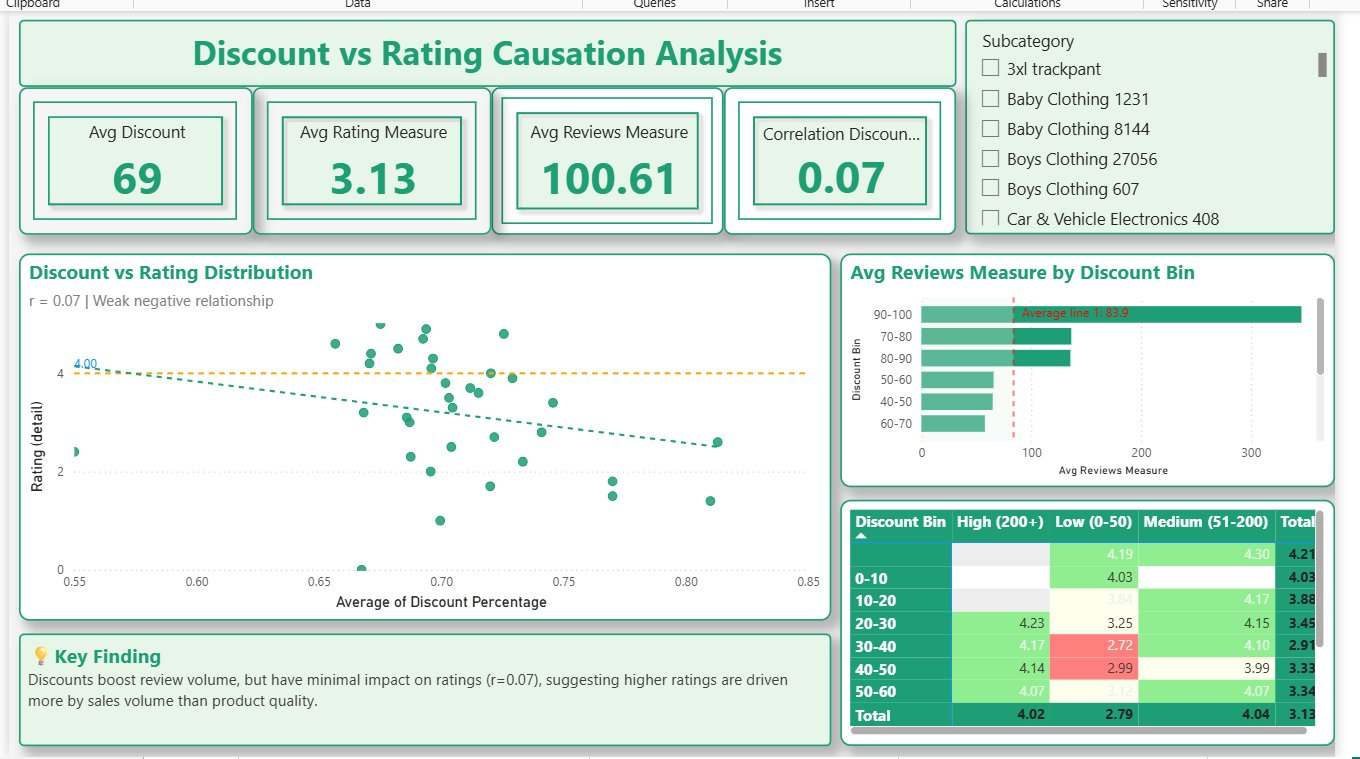

Layout of this report page (visuals, bound fields, positions):
{"tool":"powerbi","page":{"name":"[Page 4] Discount vs Rating Causation","canvas":[1280,720],"ordinal":3},"visuals":[{"type":"textbox","box":[9.7,8.4,904.8,65.1],"z":0},{"type":"cardVisual","fields":{"Data":["snapdeal_products.Avg Discount"]},"box":[9.7,73.6,225.6,142.4],"z":1000},{"type":"cardVisual","fields":{"Data":["snapdeal_products.Avg Reviews Measure"]},"box":[465.7,73.6,224.4,142.4],"z":2000},{"type":"cardVisual","fields":{"Data":["snapdeal_products.Avg Rating Measure"]},"box":[235.3,73.6,230.4,142.4],"z":3000},{"type":"scatterChart","title":"Discount vs Rating Distribution","fields":{"X":["Avg(snapdeal_products.Discount Percentage)"],"Y":["snapdeal_products.Rating (detail)"]},"box":[9.7,234,784.2,354.7],"z":4000},{"type":"clusteredBarChart","fields":{"Category":["snapdeal_products.Discount Bin"],"Y":["snapdeal_products.Avg Reviews Measure"]},"box":[802.3,234,477.8,225.6],"z":5000},{"type":"slicer","fields":{"Values":["snapdeal_products.Subcategory"]},"box":[922.9,8.4,357.1,207.5],"z":6000},{"type":"textbox","box":[9.7,600.8,784.2,108.6],"z":7000},{"type":"pivotTable","fields":{"Columns":["snapdeal_products.Review Group"],"Rows":["snapdeal_products.Discount Bin"],"Values":["snapdeal_products.Avg Rating Measure"]},"box":[802.3,471.7,477.8,237.7],"z":8000},{"type":"cardVisual","fields":{"Data":["snapdeal_products.Correlation Discount Rating"]},"box":[690.1,73.6,224.4,142.4],"z":9000}]}

Visuals, with their boxes in screenshot pixels (x1, y1, x2, y2):
textbox: (x1=14, y1=16, x2=953, y2=83)
cardVisual - snapdeal_products.Avg Discount: (x1=14, y1=83, x2=248, y2=231)
cardVisual - snapdeal_products.Avg Reviews Measure: (x1=487, y1=83, x2=720, y2=231)
cardVisual - snapdeal_products.Avg Rating Measure: (x1=248, y1=83, x2=487, y2=231)
"Discount vs Rating Distribution" scatterChart: (x1=14, y1=250, x2=828, y2=618)
clusteredBarChart - snapdeal_products.Discount Bin x snapdeal_products.Avg Reviews Measure: (x1=836, y1=250, x2=1332, y2=484)
slicer - snapdeal_products.Subcategory: (x1=962, y1=16, x2=1332, y2=231)
textbox: (x1=14, y1=631, x2=828, y2=744)
pivotTable - snapdeal_products.Review Group x snapdeal_products.Discount Bin: (x1=836, y1=497, x2=1332, y2=744)
cardVisual - snapdeal_products.Correlation Discount Rating: (x1=720, y1=83, x2=953, y2=231)
